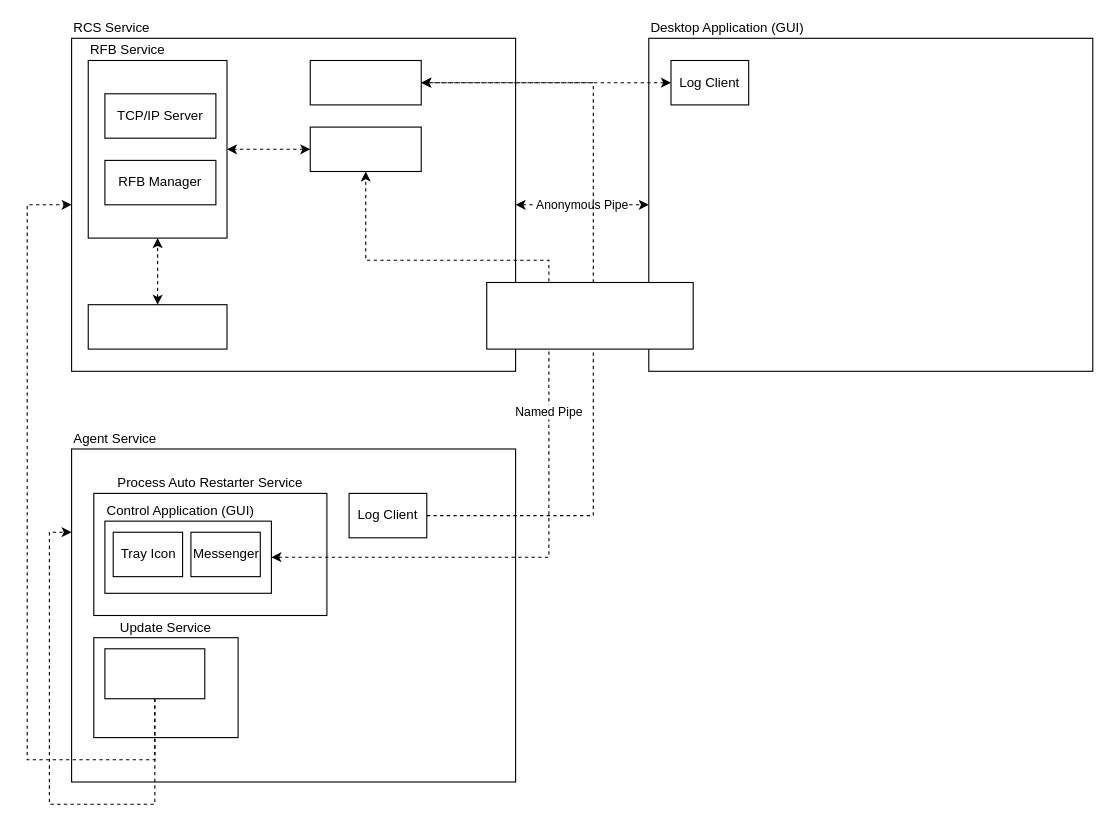
The diagram is 1112 pixels wide and 833 high, and some of its shapes have lost their labels. Each missing label, with the centre of its shape:
Control Server: point (365, 148)
Log Server: point (365, 82)
Resource Service: point (157, 326)
Shared Memory: point (589, 315)
Update Application: point (154, 673)
